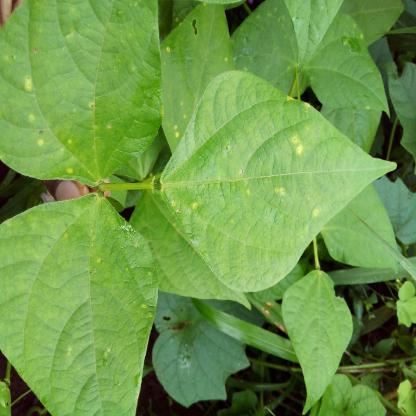Beans_Rust: (156, 69, 400, 294), (0, 192, 158, 416), (0, 0, 161, 183)
